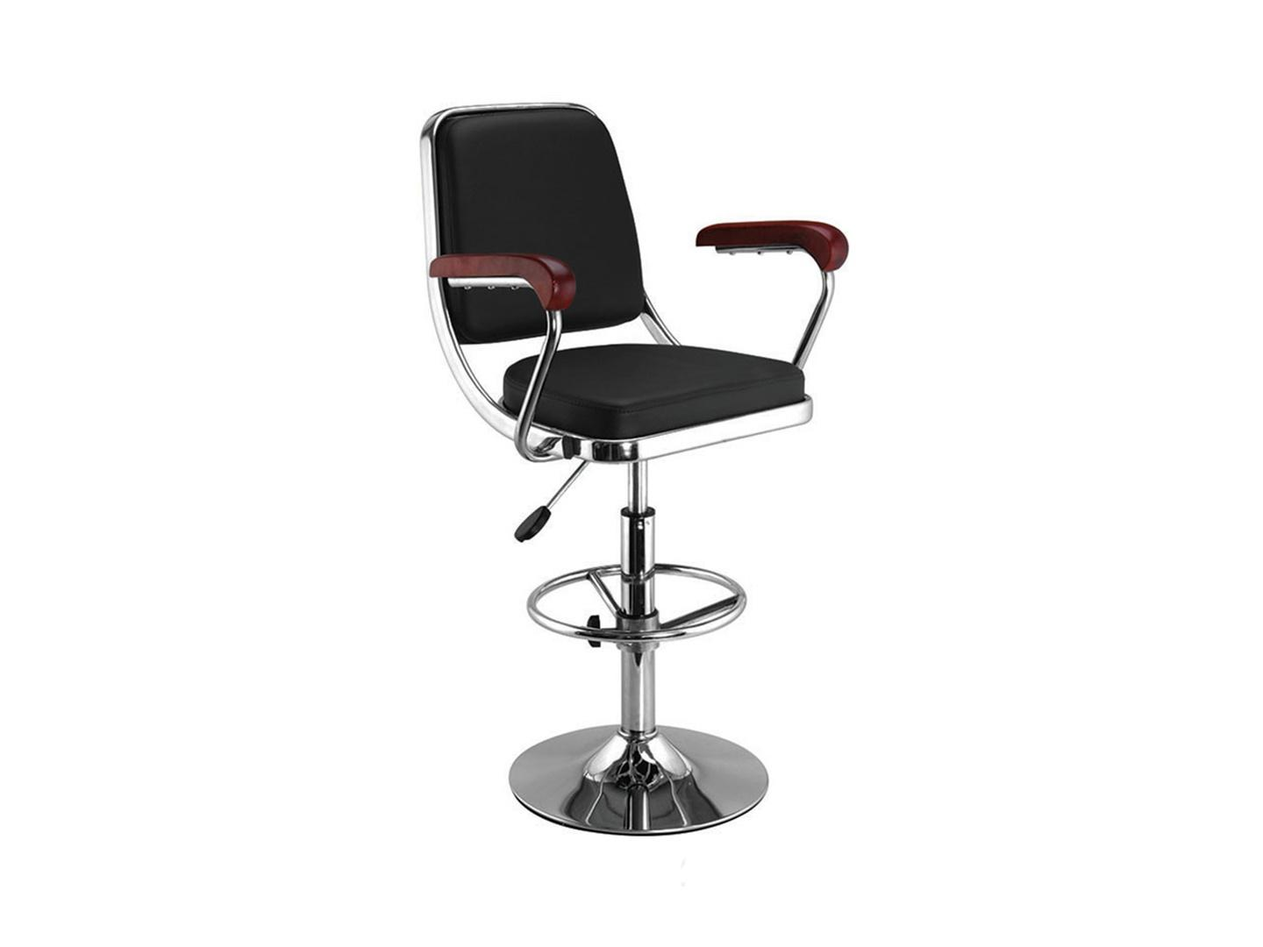chair: (403, 85, 906, 829)
